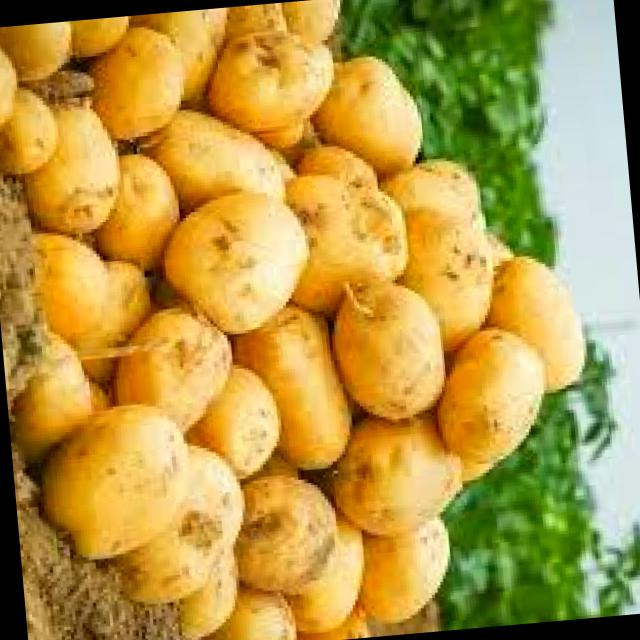Potato: (31, 382, 196, 572), (308, 397, 486, 548), (419, 310, 552, 490), (160, 167, 286, 356), (236, 293, 352, 489), (324, 263, 456, 432), (110, 290, 248, 447), (188, 11, 329, 158), (299, 29, 428, 186), (492, 217, 588, 410), (225, 456, 348, 600), (18, 86, 128, 245), (338, 503, 464, 638), (161, 112, 300, 213), (5, 326, 116, 452), (26, 224, 119, 364), (94, 20, 194, 150), (192, 351, 296, 473), (200, 571, 314, 640), (0, 78, 62, 178), (0, 19, 88, 83), (0, 24, 36, 142)
